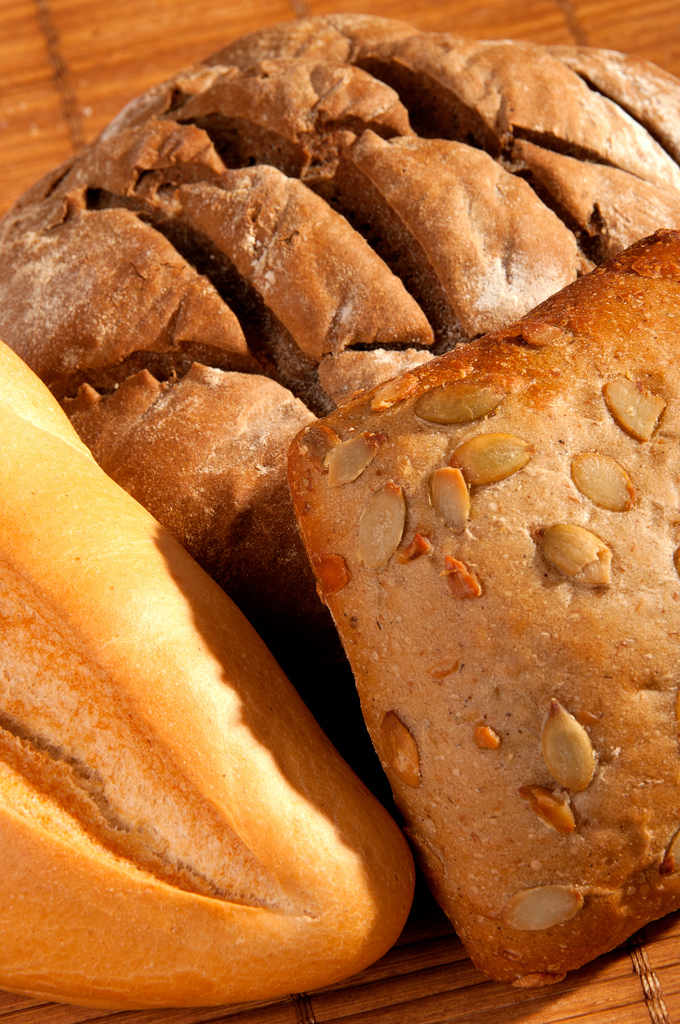slice of bread: (290, 258, 680, 962), (1, 366, 441, 984), (27, 30, 646, 443)
